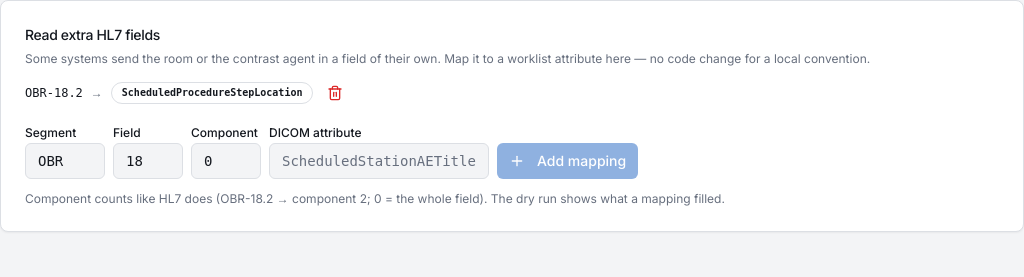
Test case: Hl7MappingCard › shows the server message when the attribute is not a DICOM keyword
expect the list with test id "hl7-mapping-list" is shown: met, box [25,79,350,107]
Type "NotATag" into the field labelled "DICOM attribute" at (379, 161), box [269,143,489,179]
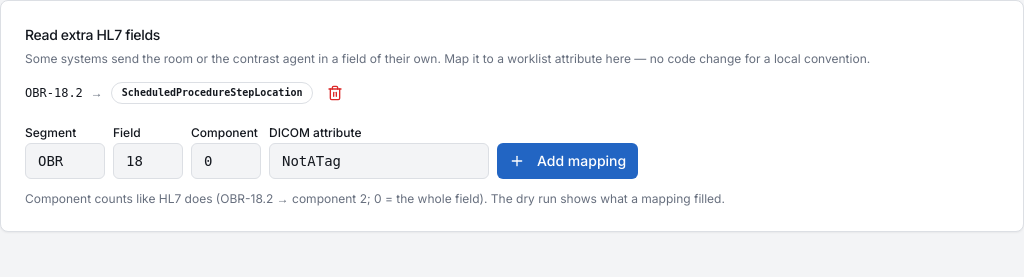
Click the button "Add mapping" at (568, 161), box [497,143,638,179]
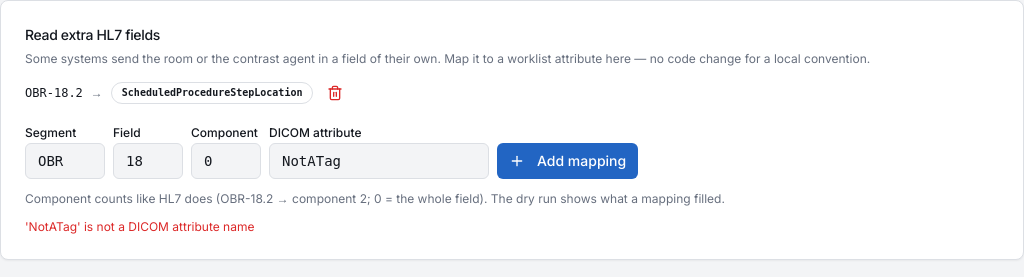
expect the message shows "not a DICOM attribute": met, box [25,219,254,234]
